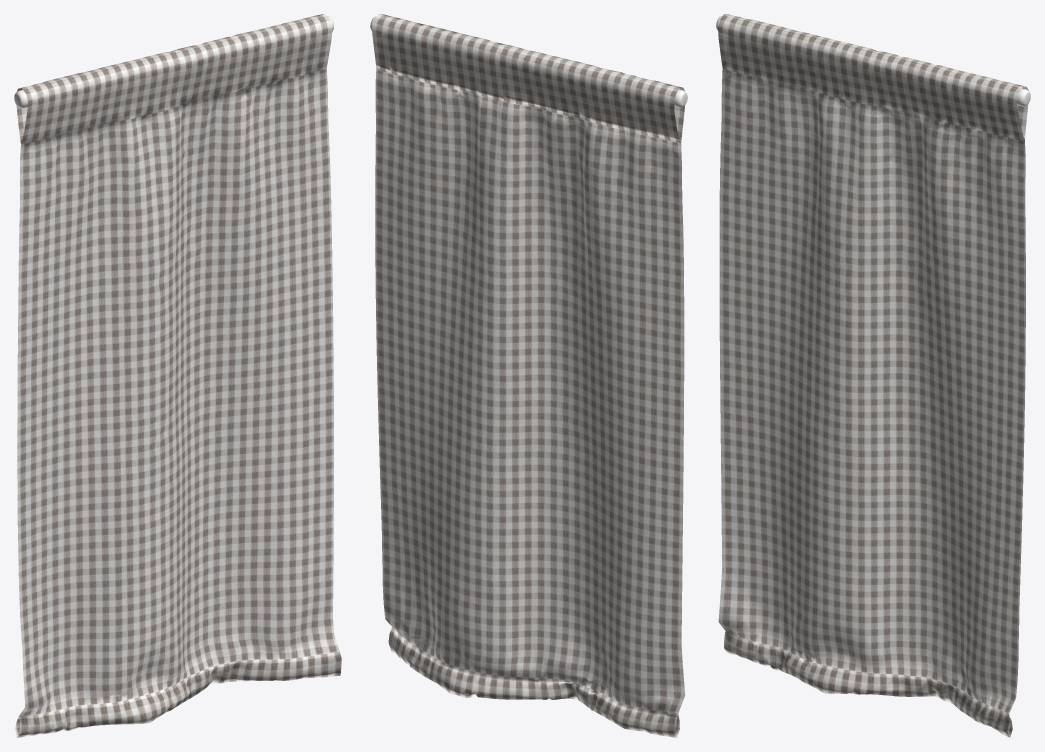
File: MEGA_PACK_Curtain__curtain-228569_check.glb
The picture shows the model from 3 angles, left to right: view 1: azimuth 30°, elevation 25°; view 2: azimuth 150°, elevation 25°; view 3: azimuth 330°, elevation 25°; orthographic projection.
Parts seen in each view (by area): view 1: curtain-228569_check; view 2: curtain-228569_check; view 3: curtain-228569_check.
Boxes of the visible parts, <box> form: curtain-228569_check: <box>14,14,341,737</box>; curtain-228569_check: <box>370,14,687,737</box>; curtain-228569_check: <box>716,14,1030,737</box>.
Size of the model in its own units: 0.4 by 0.8004 by 0.0643.
Materials: 1 (1 with a texture image).
